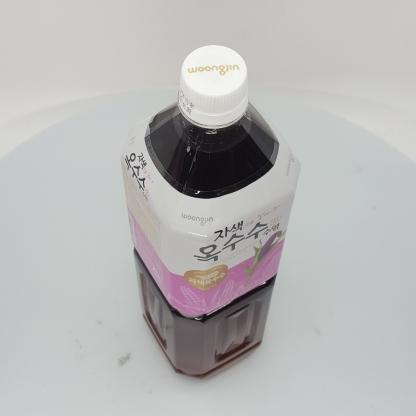----------1-5L: (121, 45, 301, 380)
